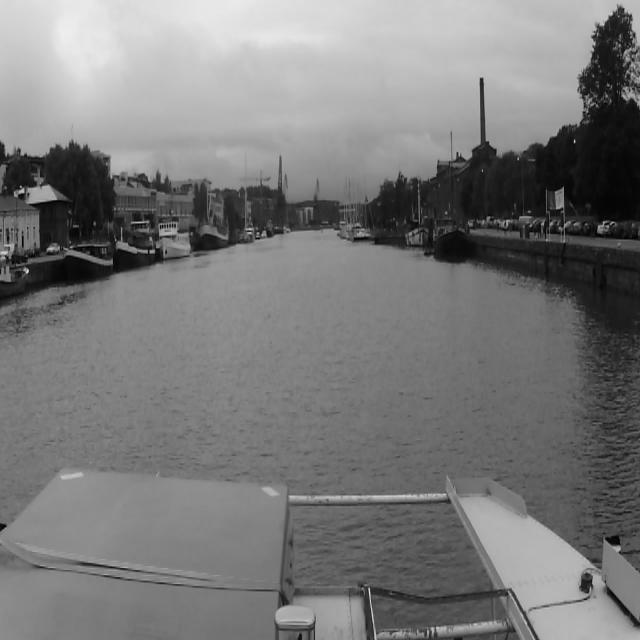ship: (199, 178, 229, 252), (62, 242, 114, 284), (116, 220, 157, 270), (156, 215, 192, 263), (436, 211, 468, 264), (369, 221, 405, 247)
